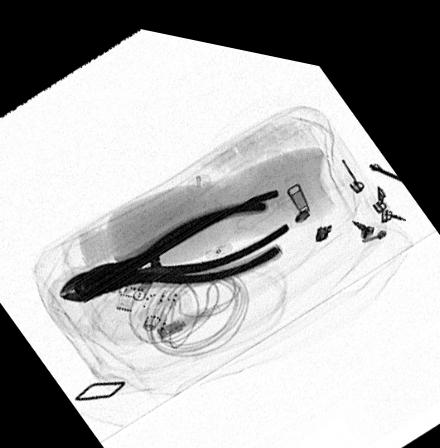Pliers: (72, 177, 289, 296), (57, 188, 280, 299)
